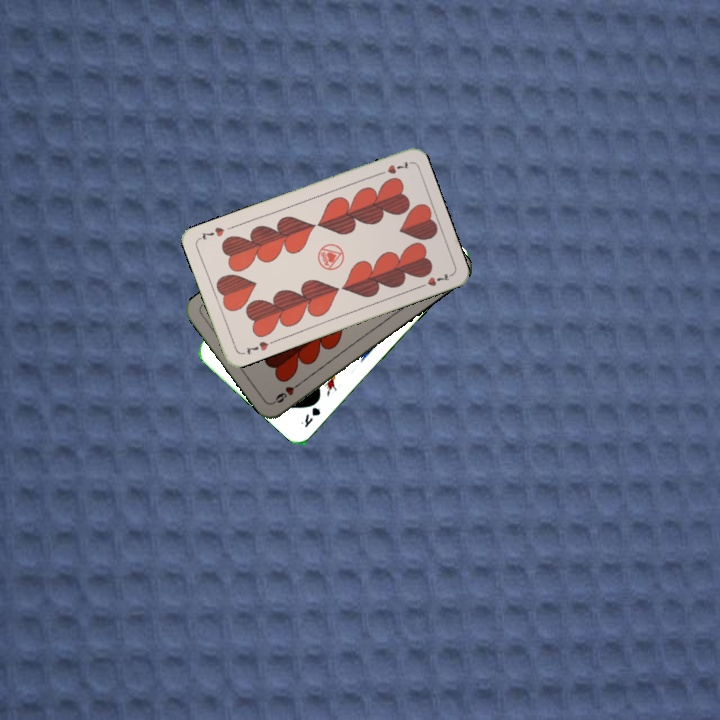GK: (296, 403, 323, 430)
H7: (373, 158, 412, 178), (241, 337, 271, 357)
H9: (269, 377, 305, 406)
